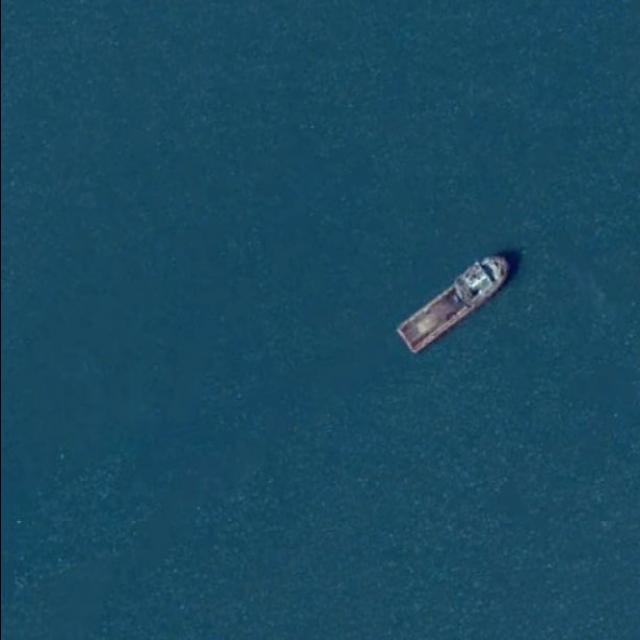ship: (395, 251, 513, 353)
